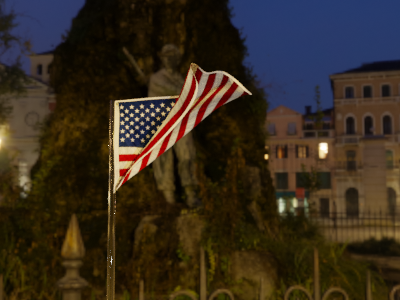America flag: (112, 63, 252, 193)
